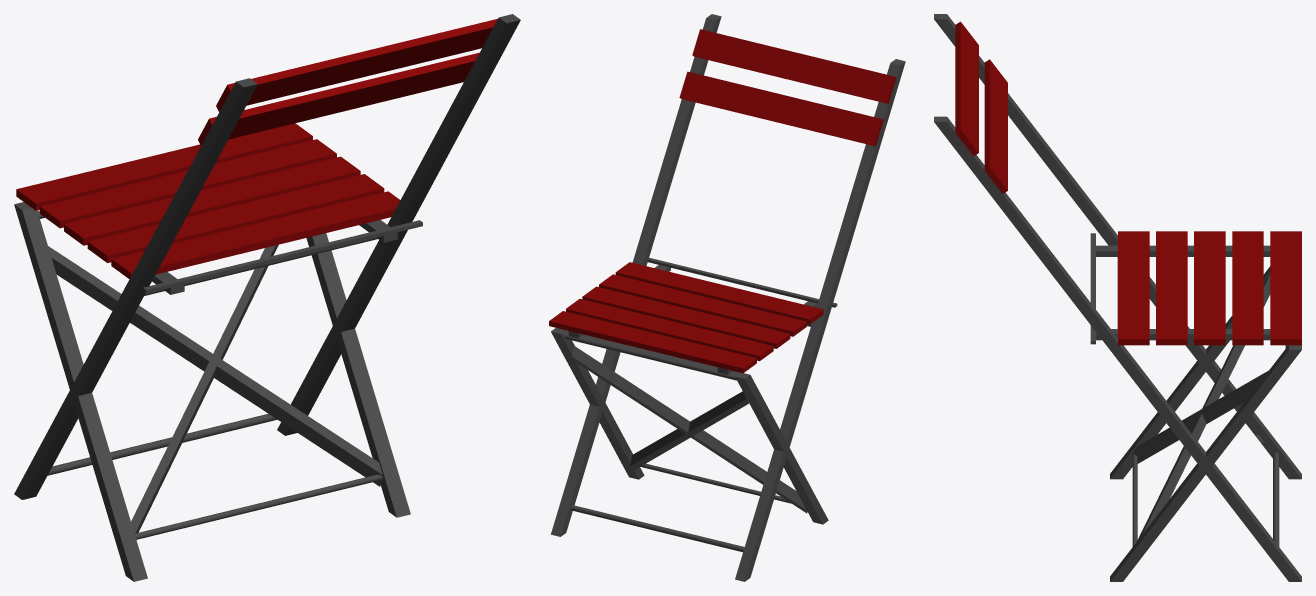
Rendered from original_shape.glb.
3 renders of one model, left to right at view 1: azimuth 30°, elevation 25°; view 2: azimuth 150°, elevation 25°; view 3: azimuth 270°, elevation 25°, orthographic. The views are drawn at different scales.
Parts seen in each view (by area): view 1: world; view 2: world; view 3: world.
Part boxes in pixels (x1,y1,x2,y2): world: (14,14,520,581); world: (549,14,905,581); world: (934,14,1301,581).
Bounding box in the file's own units: 0.38 × 0.7477 × 0.5419.
1 material, 1 textured.
